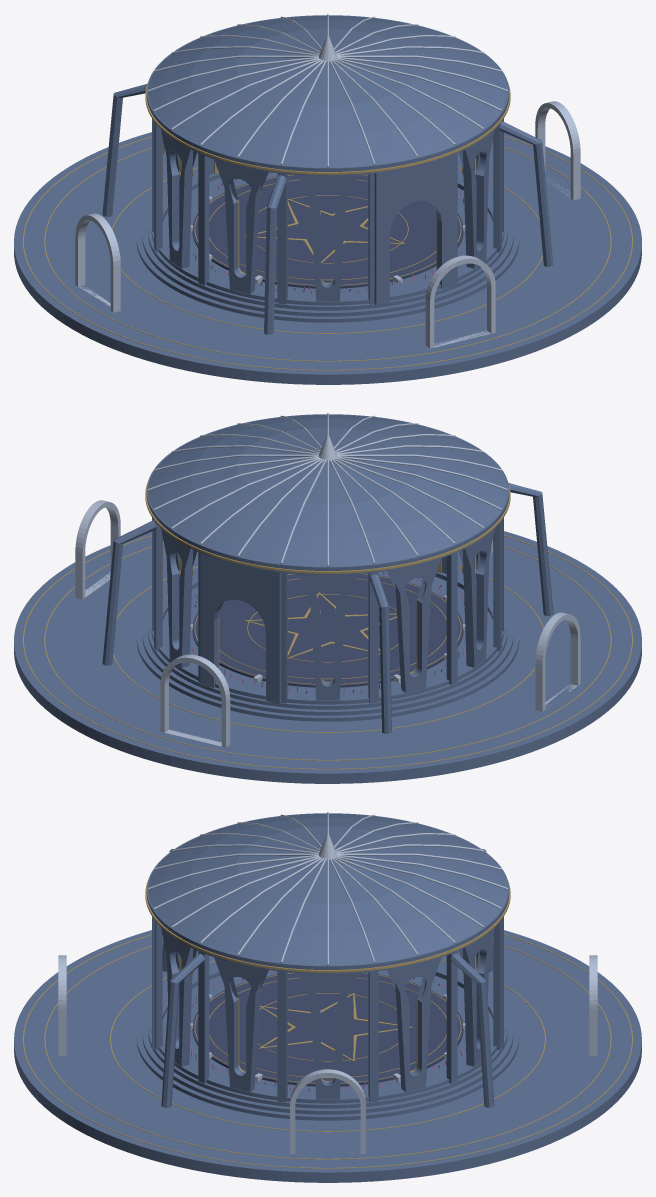
3 views of the same model, one above another, from view 1: azimuth 30°, elevation 25°; view 2: azimuth 150°, elevation 25°; view 3: azimuth 270°, elevation 25° (orthographic).
Visible parts, largest first — view 1: TERRACE_finite_base, ROOF_hollow_dome, DANCE_floor, HALL_floor_solid, WALL_10_perforated, HALL_step_00, ROOF_drum, HALL_step_01, WALL_09_perforated, WALL_01_perforated, WALL_11_perforated, WALL_lower_sill (+20 smaller); view 2: TERRACE_finite_base, ROOF_hollow_dome, DANCE_floor, HALL_floor_solid, WALL_08_perforated, HALL_step_00, ROOF_drum, HALL_step_01, WALL_09_perforated, WALL_05_perforated, WALL_07_perforated, WALL_lower_sill (+20 smaller); view 3: TERRACE_finite_base, ROOF_hollow_dome, DANCE_floor, HALL_floor_solid, WALL_02_perforated, WALL_04_perforated, HALL_step_00, ROOF_drum, HALL_step_01, WALL_lower_sill, WALL_03_perforated, WALL_01_perforated (+18 smaller).
Part boxes in pixels (x1,y1,x2,y2): TERRACE_finite_base: (14,132,641,384); ROOF_hollow_dome: (148,16,507,167); DANCE_floor: (192,174,463,288); HALL_floor_solid: (149,172,507,310); WALL_10_perforated: (214,159,268,293); HALL_step_00: (136,194,519,322); ROOF_drum: (146,15,509,176); HALL_step_01: (142,195,513,316); WALL_09_perforated: (161,130,196,268); WALL_01_perforated: (459,130,494,268); WALL_11_perforated: (298,175,357,301); WALL_lower_sill: (151,173,504,305); TERRACE_finite_base: (14,531,641,783); ROOF_hollow_dome: (148,415,507,566); DANCE_floor: (192,573,463,687); HALL_floor_solid: (148,571,507,709); WALL_08_perforated: (387,558,441,692); HALL_step_00: (136,593,519,721); ROOF_drum: (146,414,509,575); HALL_step_01: (142,594,513,715); WALL_09_perforated: (459,529,494,667); WALL_05_perforated: (161,529,196,667); WALL_07_perforated: (298,574,357,700); WALL_lower_sill: (151,572,504,704); TERRACE_finite_base: (14,930,641,1182); ROOF_hollow_dome: (148,814,507,965); DANCE_floor: (192,972,463,1086); HALL_floor_solid: (148,970,507,1108); WALL_02_perforated: (214,957,268,1091); WALL_04_perforated: (387,957,441,1091); HALL_step_00: (136,992,519,1120); ROOF_drum: (146,813,509,974); HALL_step_01: (142,993,513,1114); WALL_lower_sill: (151,967,504,1103); WALL_03_perforated: (298,973,357,1099); WALL_01_perforated: (161,928,196,1066).
Size of the model in its own units: 22 by 8.35 by 22.
